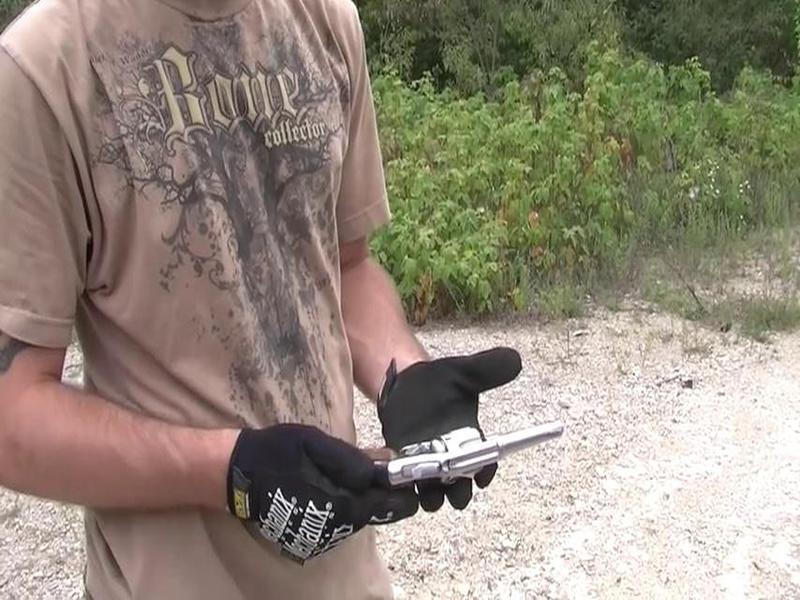Revolver: (317, 398, 579, 511)
